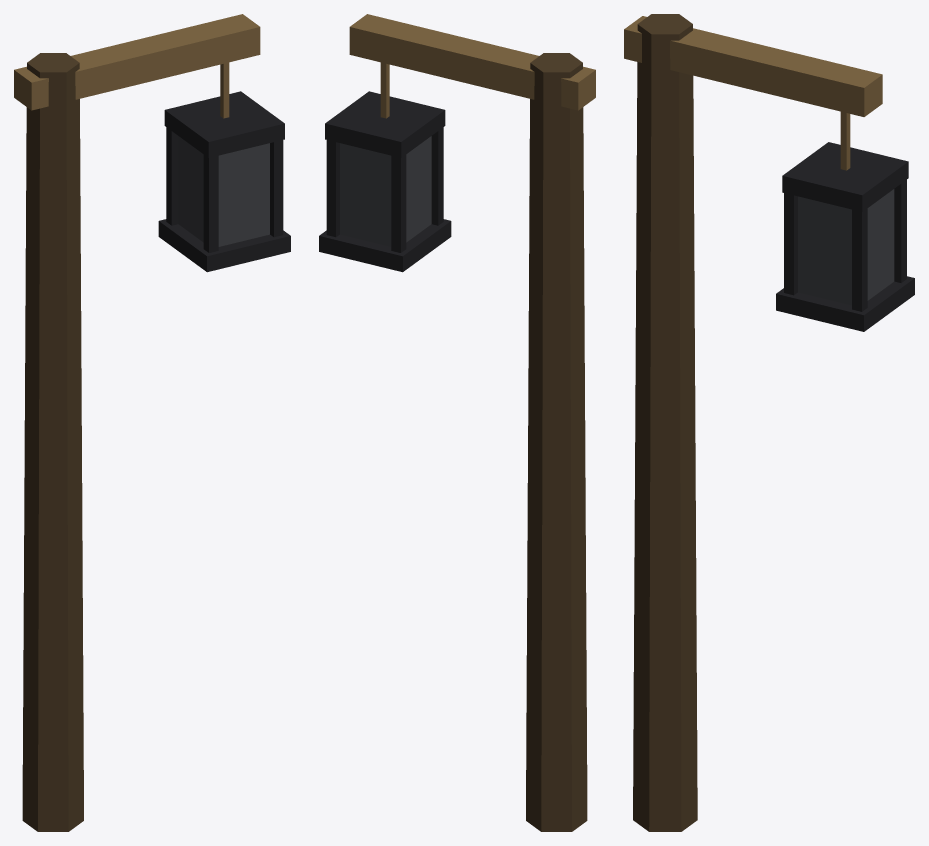
File: mod_lantern_dark.glb
3 renders of one model, left to right at view 1: azimuth 30°, elevation 25°; view 2: azimuth 150°, elevation 25°; view 3: azimuth 330°, elevation 25°, orthographic. The views are drawn at different scales.
Visible parts, largest first — view 1: mod_lantern_dark; view 2: mod_lantern_dark; view 3: mod_lantern_dark.
Part boxes in pixels (left/top/right/bottom): mod_lantern_dark: left=14, top=14, right=290, bottom=831; mod_lantern_dark: left=319, top=14, right=595, bottom=831; mod_lantern_dark: left=624, top=14, right=914, bottom=831.
Bounding box in the file's own units: 0.64 × 1.9 × 0.22.
